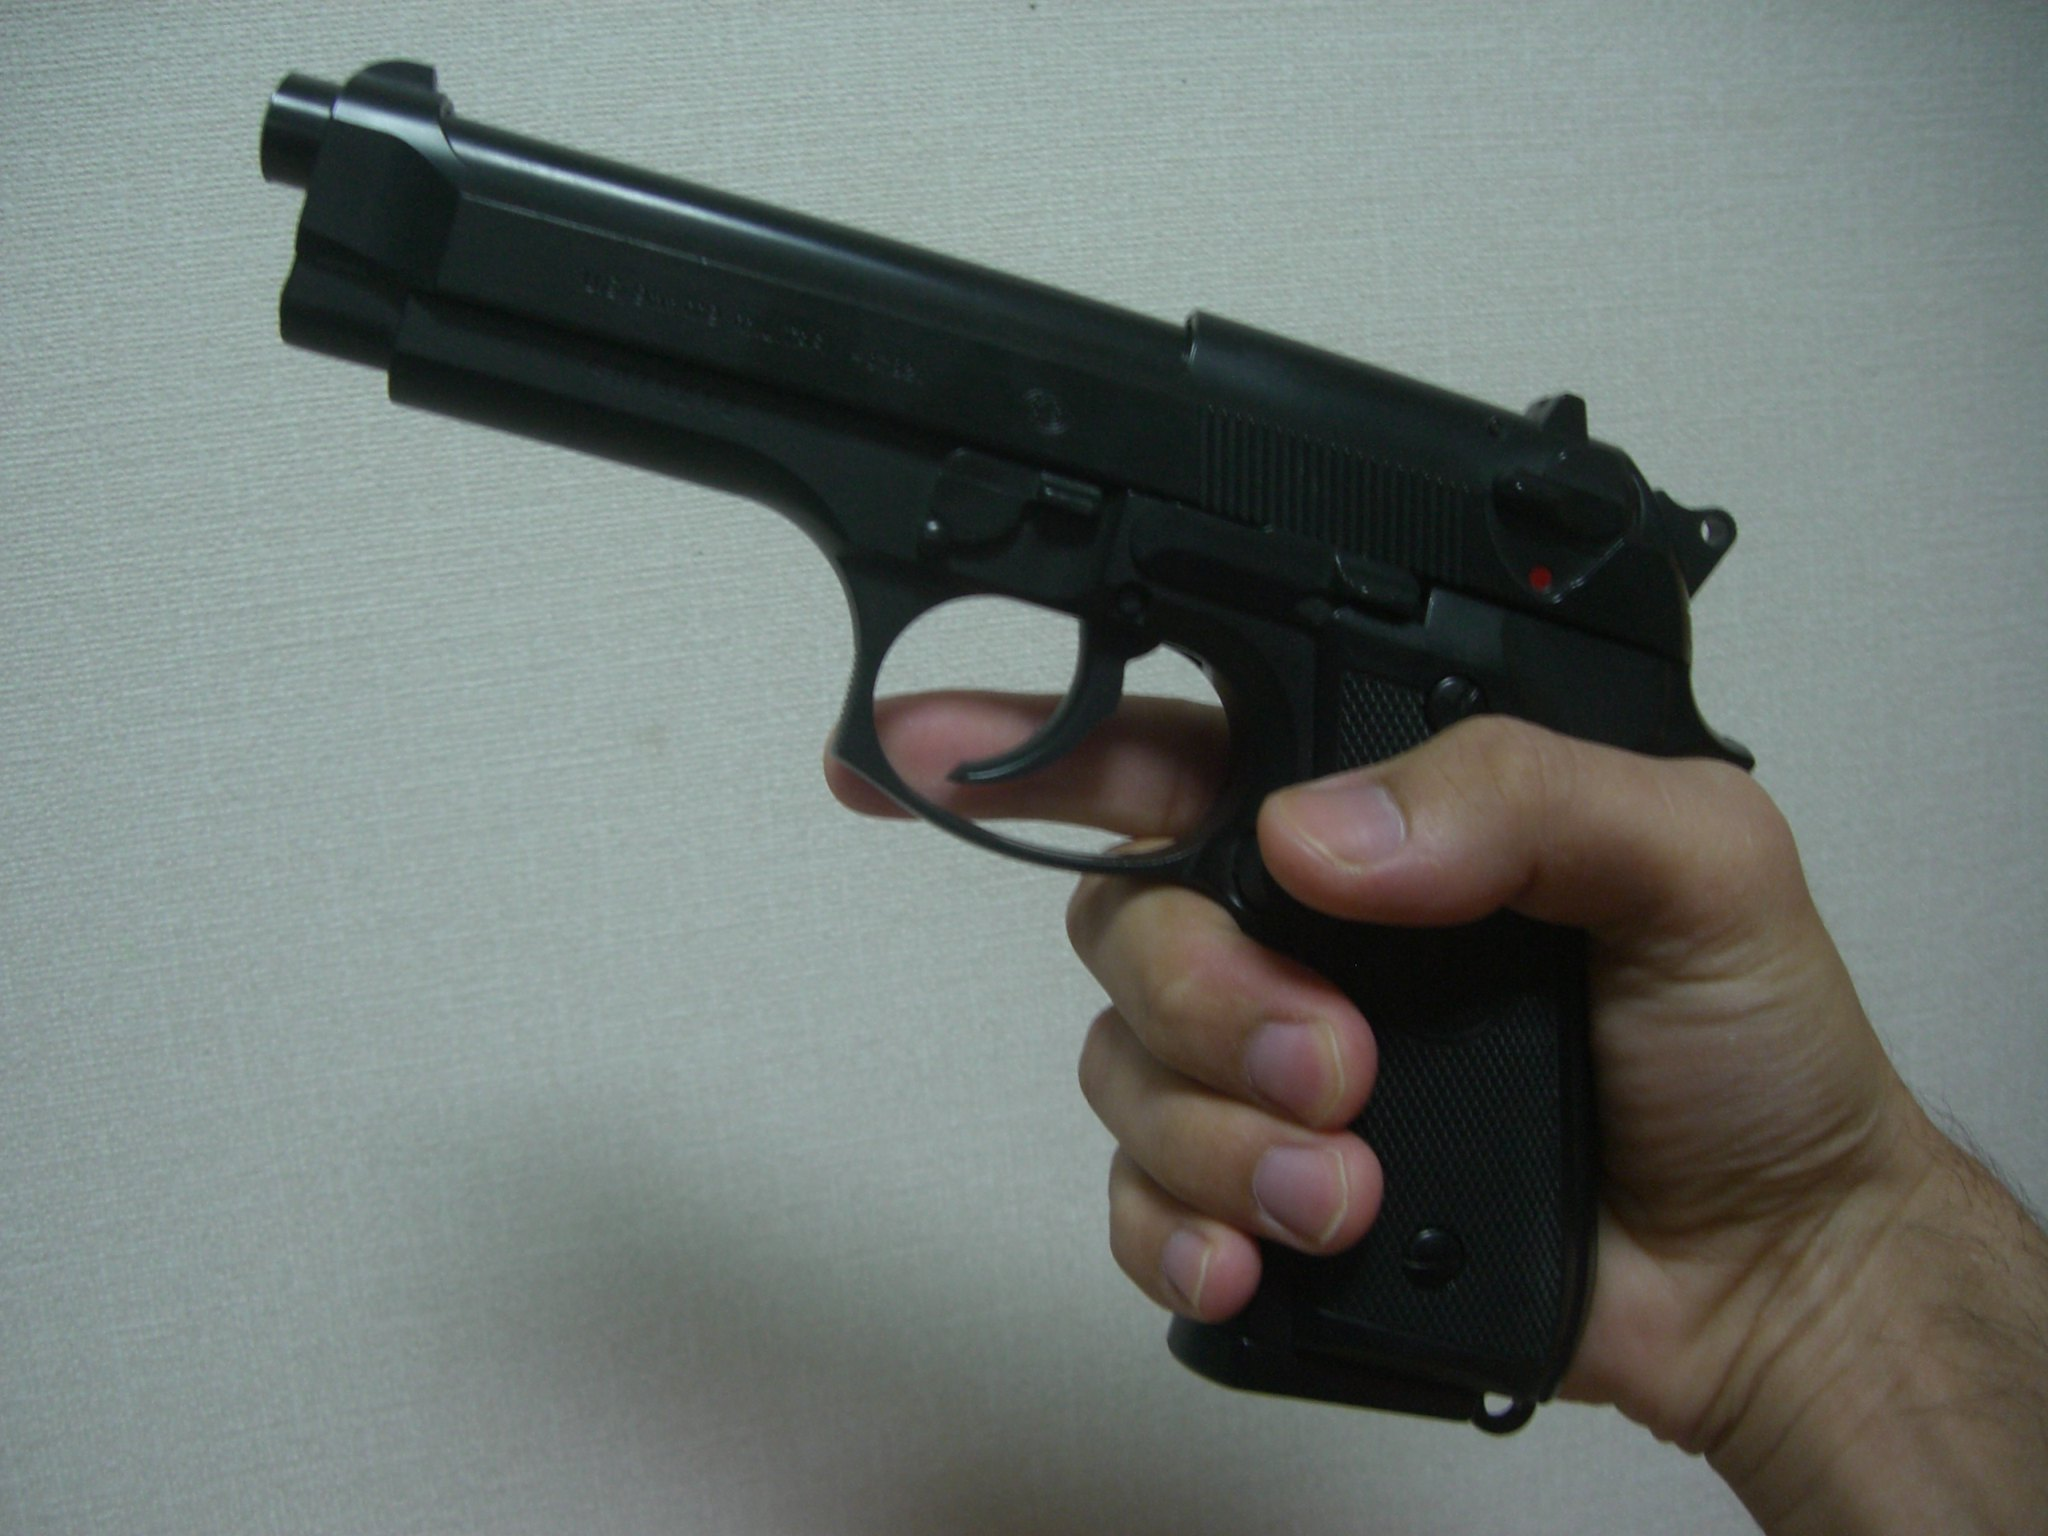gun: (244, 48, 1796, 1465)
